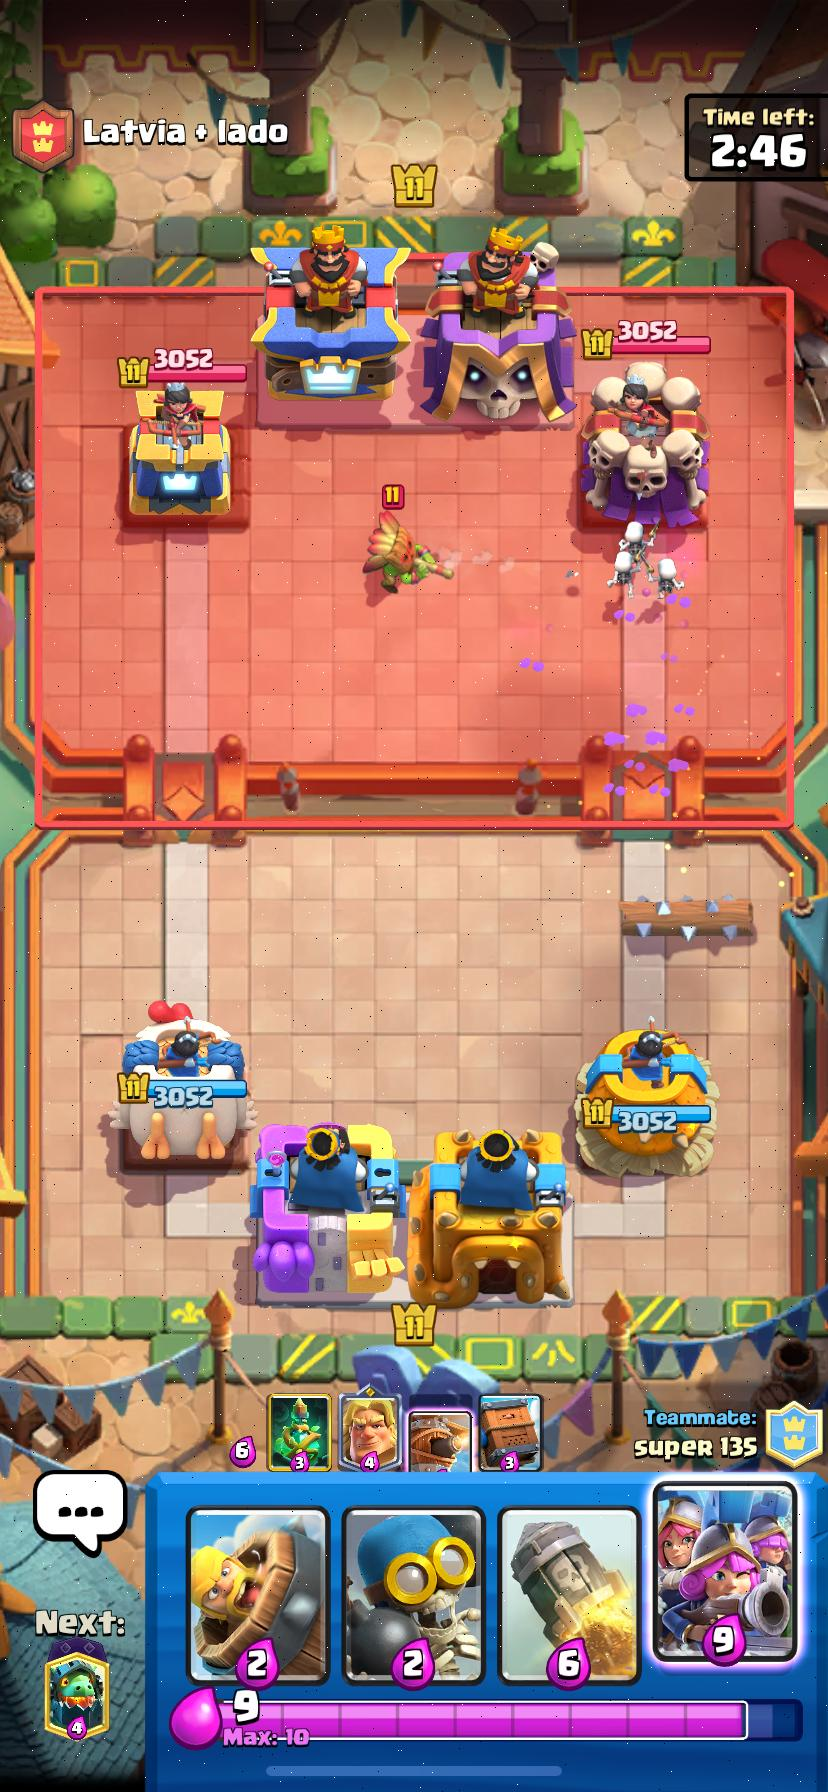EDartGoblin: (363, 512, 452, 593)
EKingTower: (424, 226, 574, 421), (250, 223, 409, 398)
EnemyPrincessTower: (583, 362, 708, 525), (130, 382, 230, 517)
OLarry: (607, 543, 638, 597), (624, 519, 655, 565), (656, 557, 683, 602)
OwnKingTower: (407, 1129, 571, 1305), (253, 1123, 403, 1301)
OwnPrincessTower: (578, 1018, 716, 1173), (117, 1017, 253, 1159)
